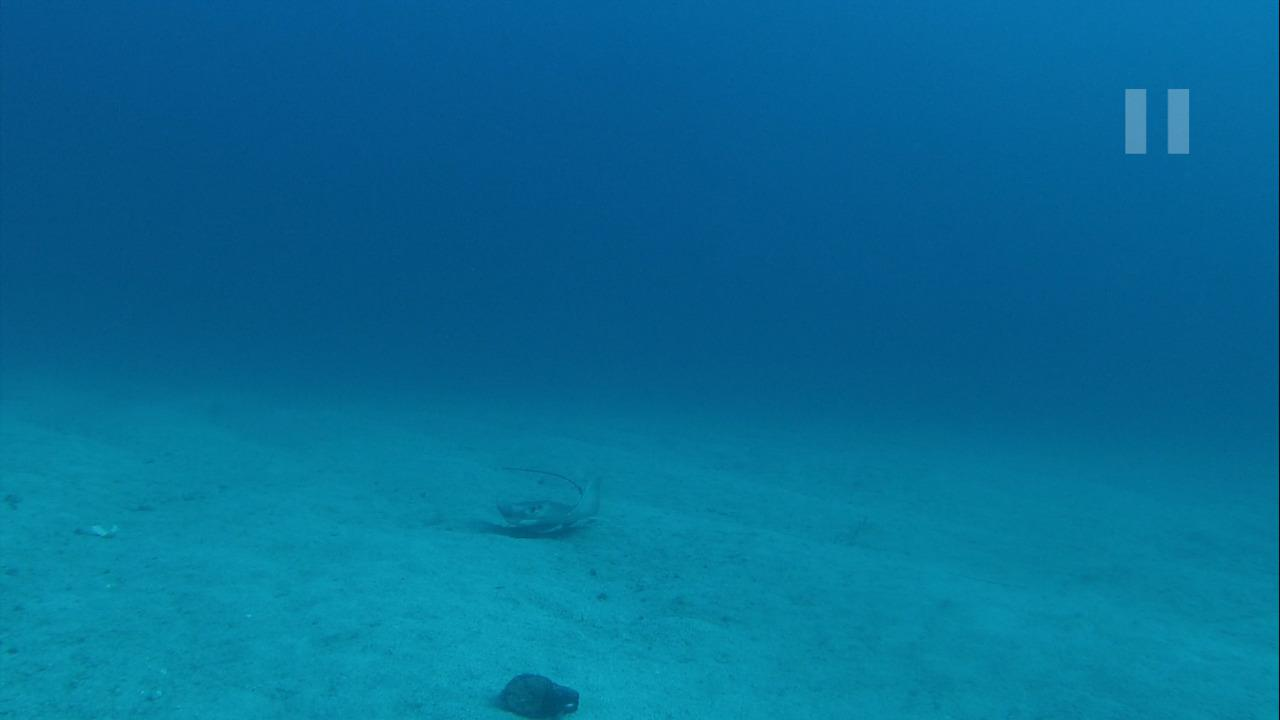myliobatis: (491, 468, 596, 538)
